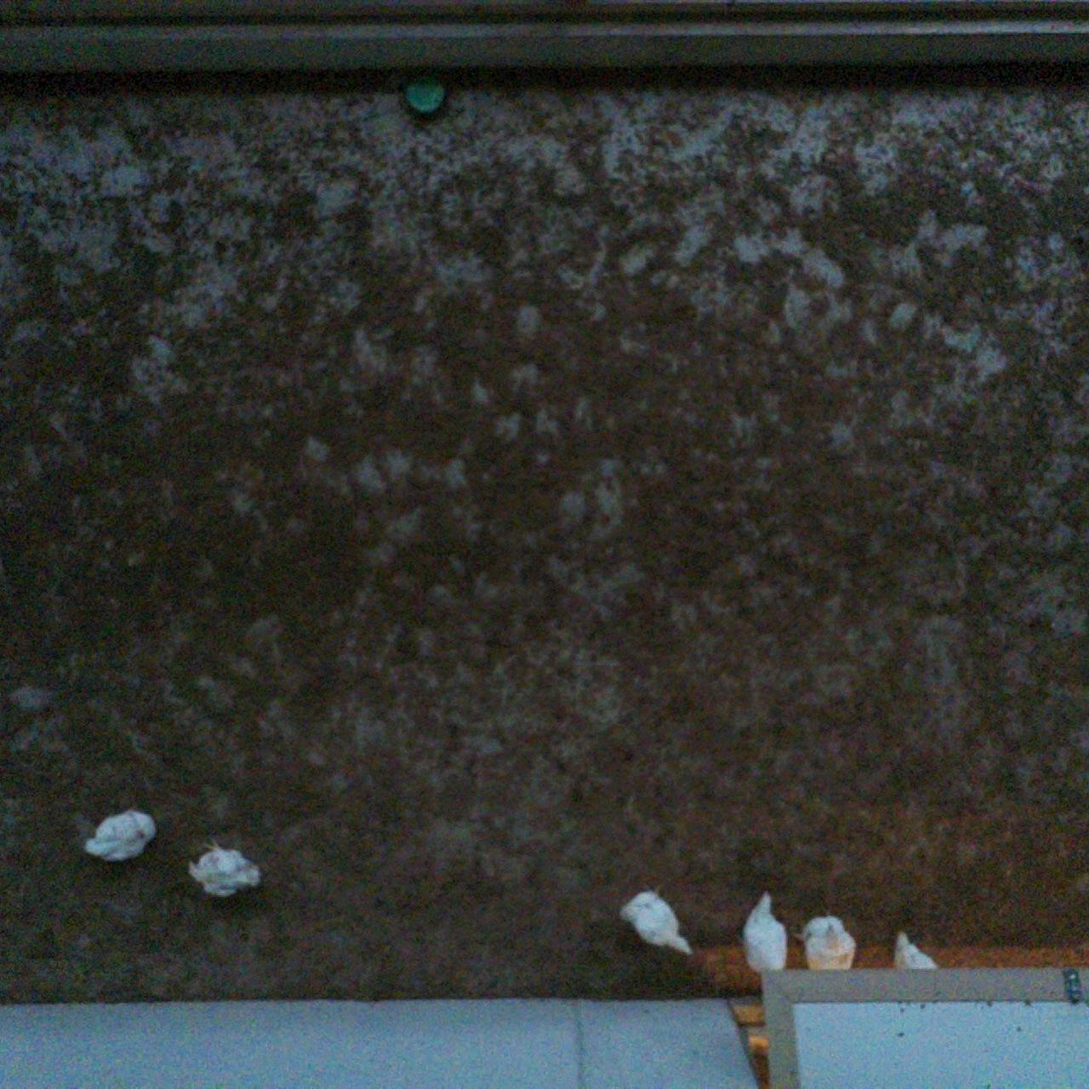chicken: (617, 880, 694, 962), (793, 912, 860, 988), (185, 839, 264, 902), (741, 888, 792, 982), (83, 806, 156, 864), (888, 926, 941, 1001)
